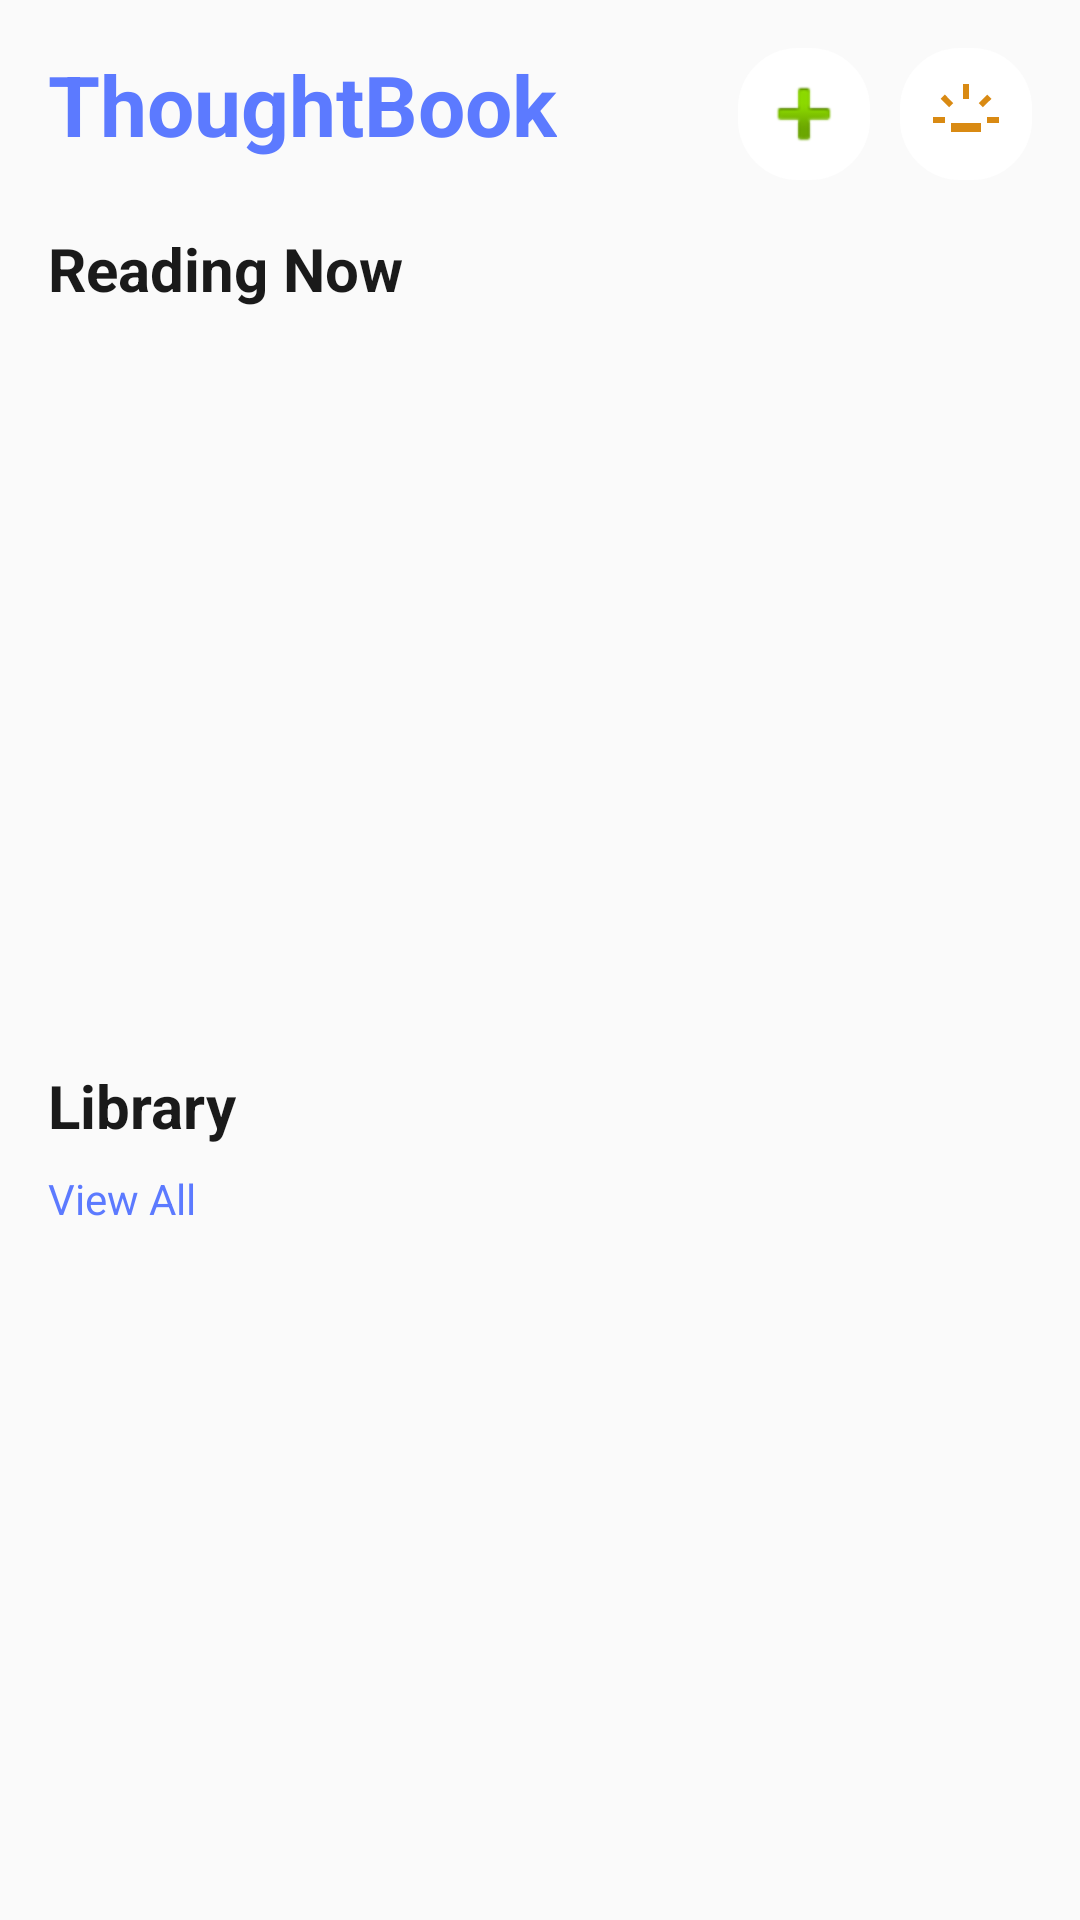

Locate icon controls on the screen. Image size 1080×1920, boxes as (x1, y1, x2, y2).
Add shelf: (777, 87, 831, 141)
Toggle theme: (933, 84, 999, 132)
